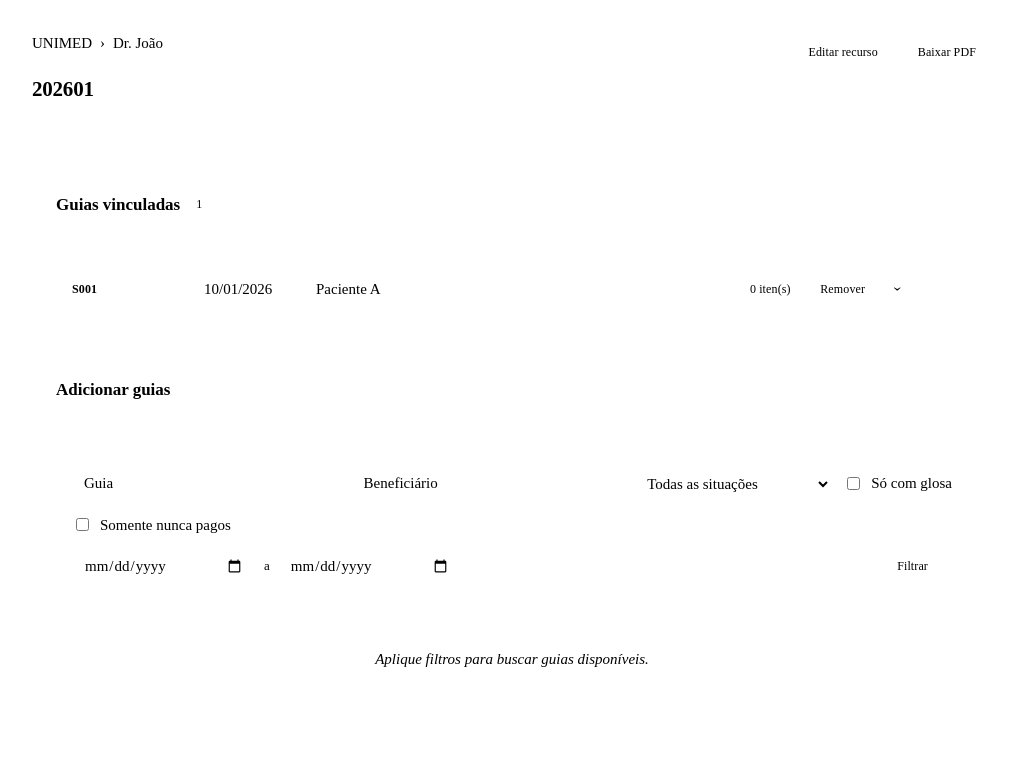
Test: RecursoGuiasComponent › deve_expandir_guia_ao_clicar
This screenshot has width=1024, height=768.
Click the button with class "guia-card__header". click: [238, 289]
box: [72,277,906,302]
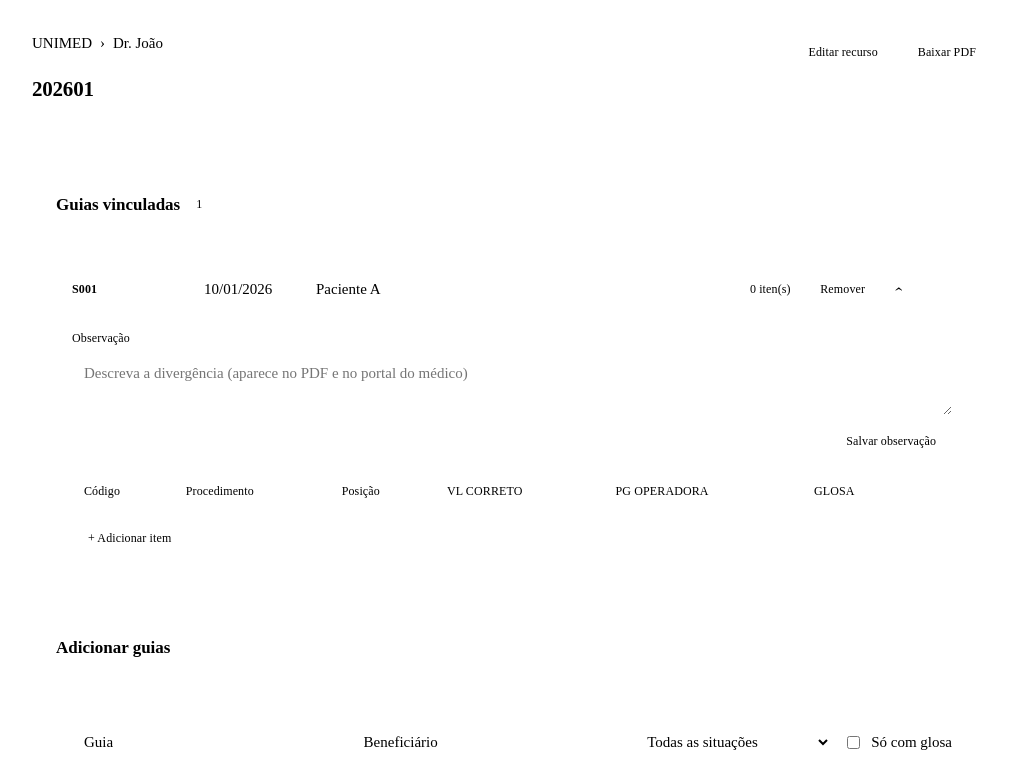
Expected: the element with class "guia-card__detalhe" is shown, [56,314,968,572]
